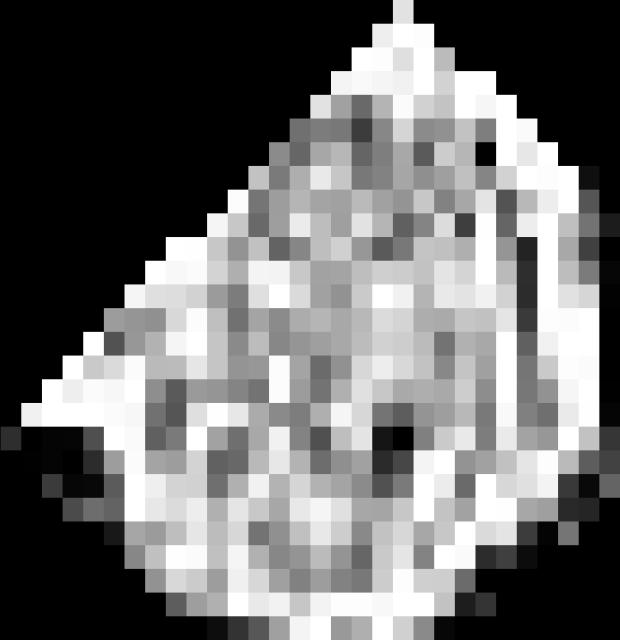tumor_good_chance: (1, 0, 620, 640)
